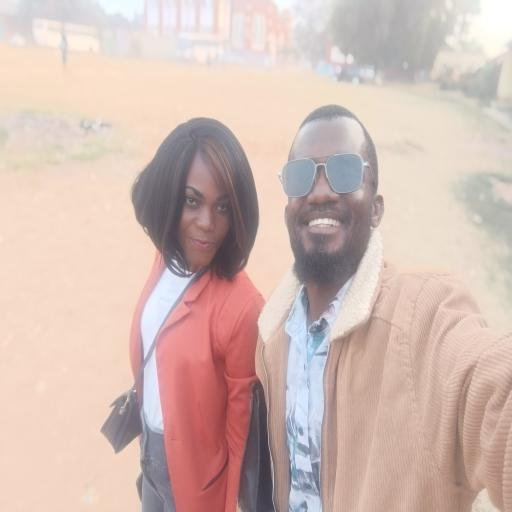MATTHIEU: (282, 103, 384, 288)
